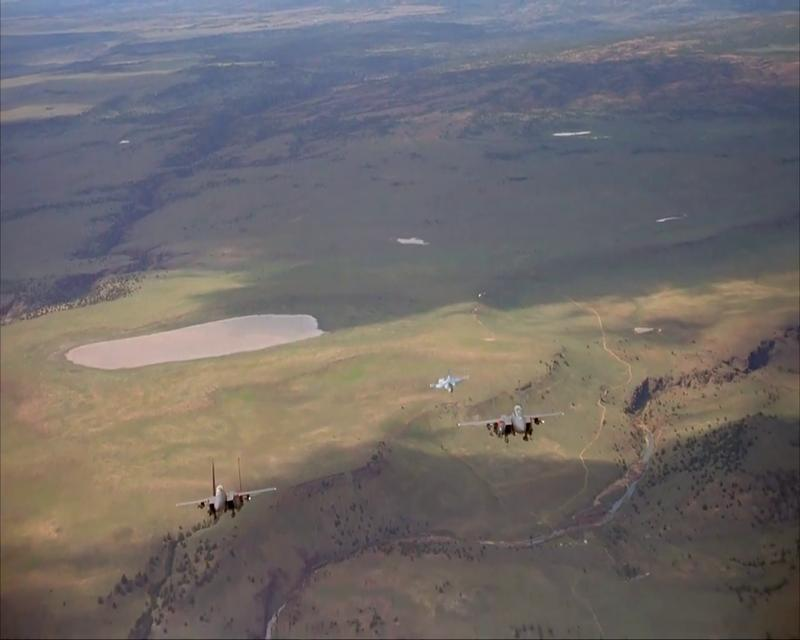UAV: (175, 456, 277, 521), (452, 405, 565, 443)
